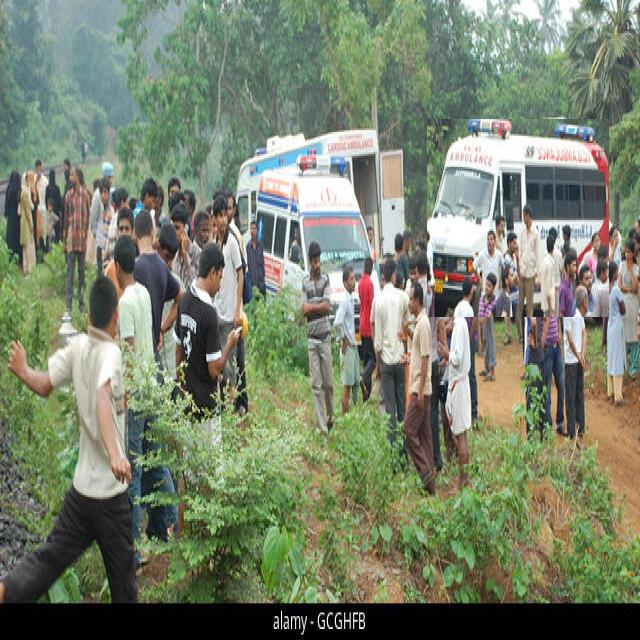emergency: (428, 120, 609, 317), (255, 154, 371, 313)
